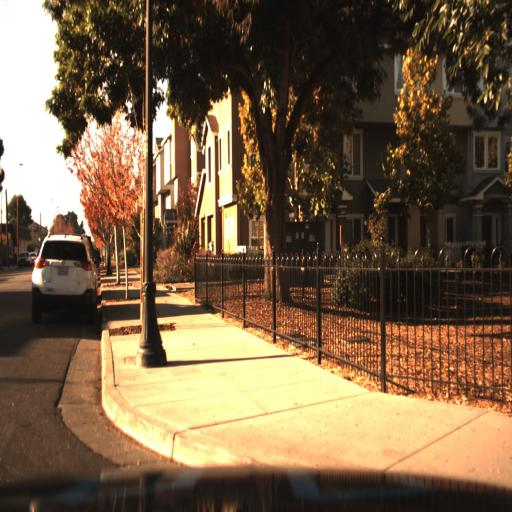car: (28, 230, 100, 326)
